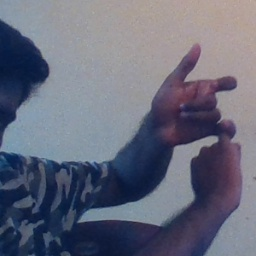S: (144, 42, 256, 198)
